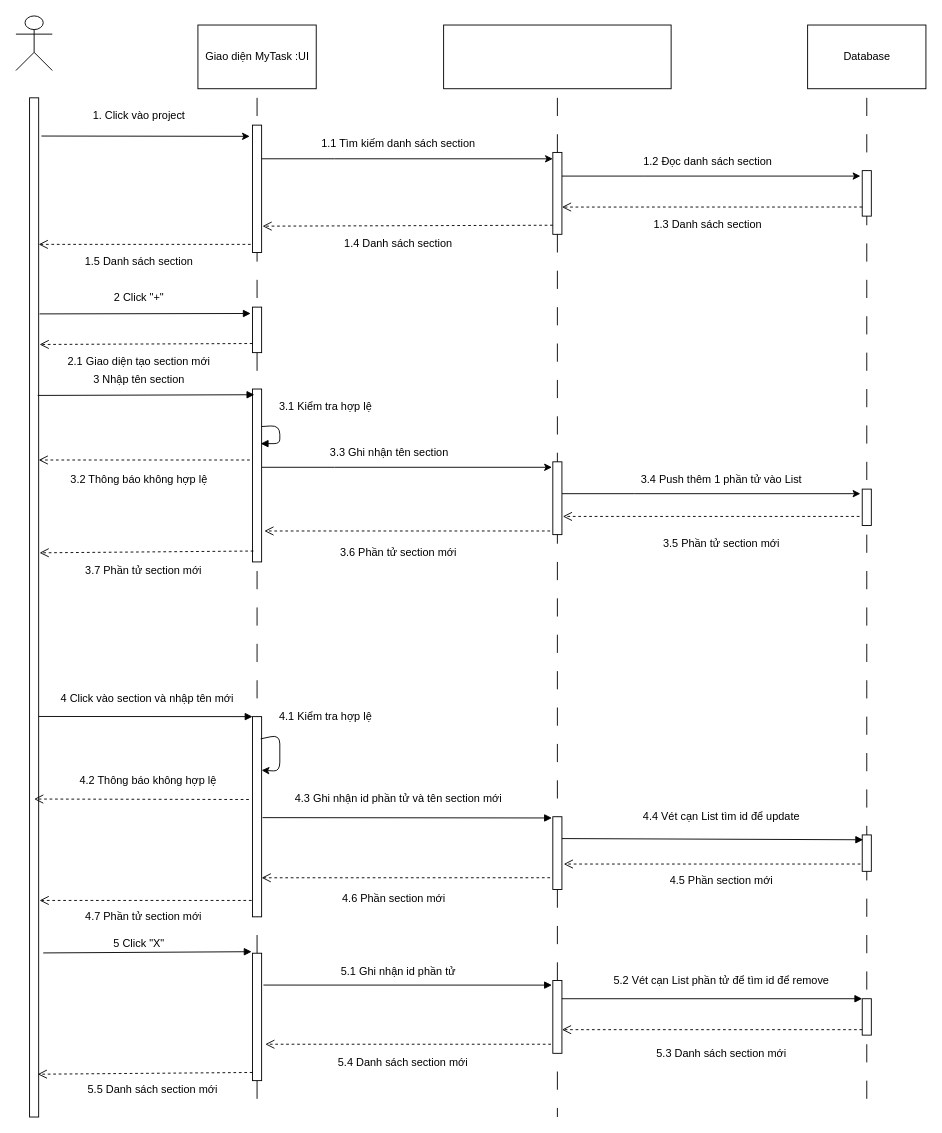
Some shapes in this 942 by 1133 pixel diagram are drawn without their labels. Here are the shapes that lost their labels. From the top down, the box of each, then its label:
(15, 15, 52, 71): Actor
(443, 24, 671, 89): Section:SectionController
